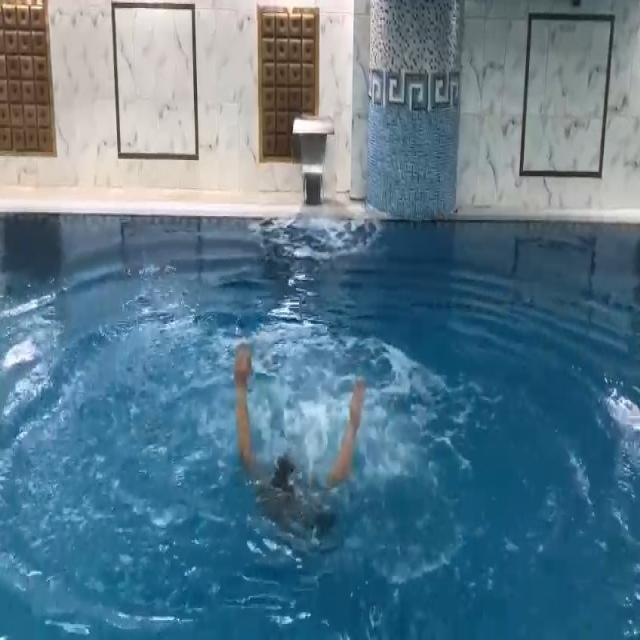Drowning: (230, 343, 369, 504)
